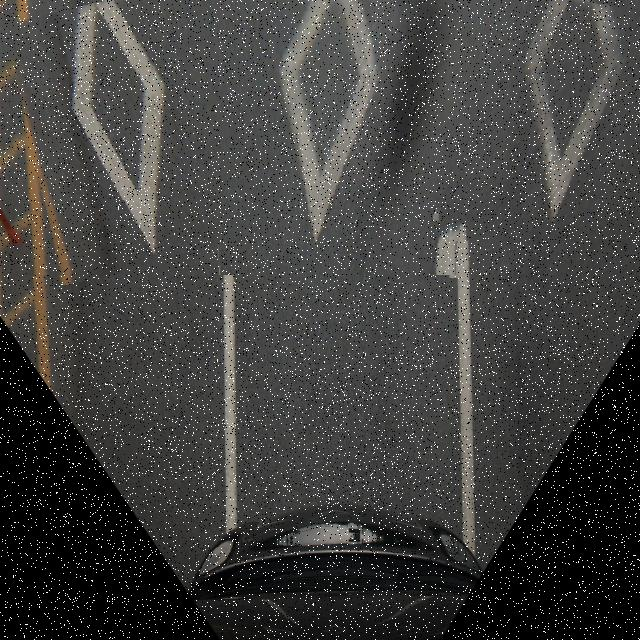diamond: (219, 0, 470, 275), (18, 0, 241, 276), (452, 0, 640, 241)
